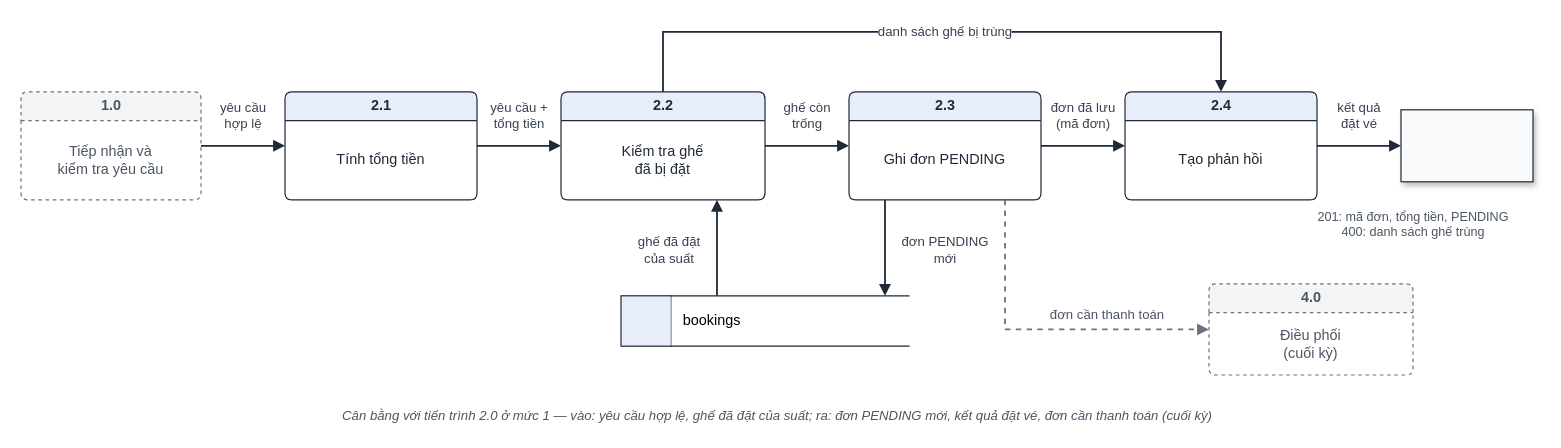
This 1561x448 diagram has some shape labels left out. The shapes that lost their labels are listed below. From the top down, each one's centre as x and y in pixels, then its label:
(x=1467, y=147): Khách
(x=645, y=320): D1
